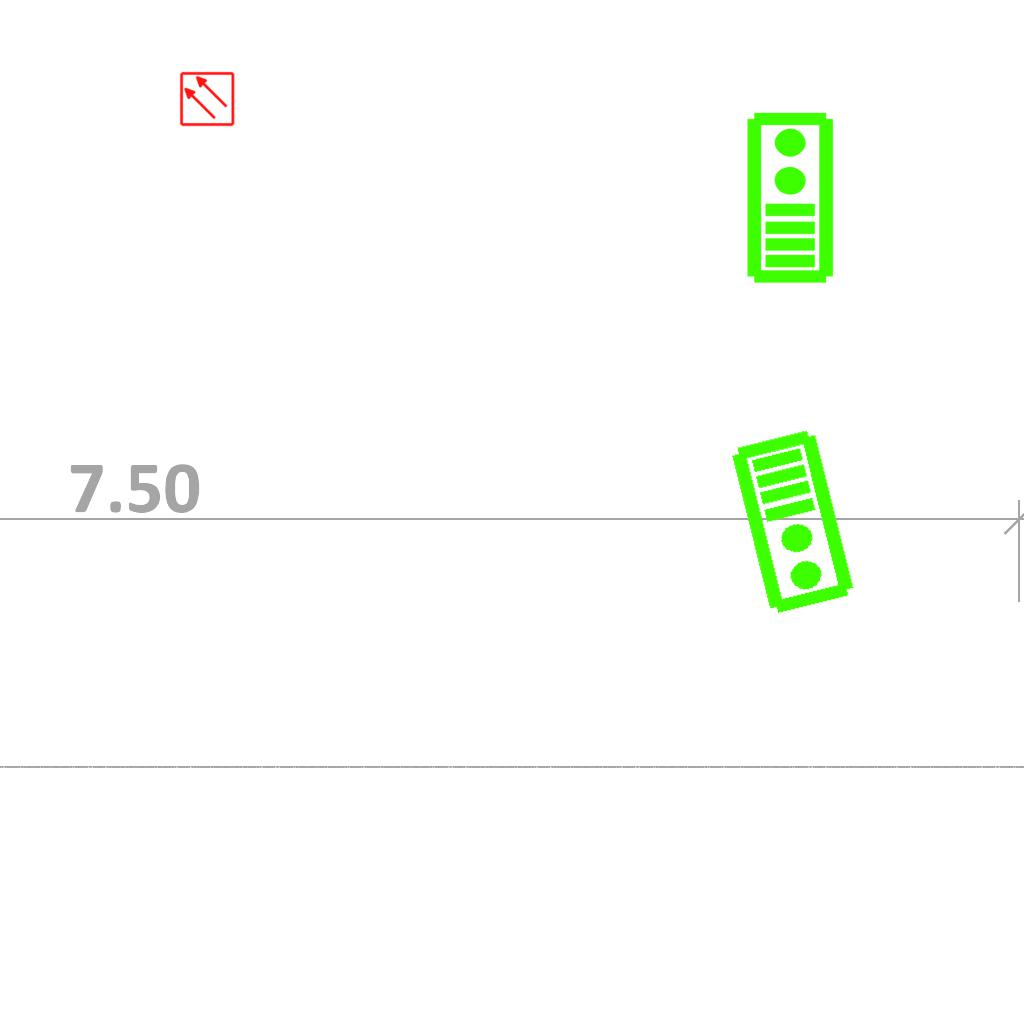Gegensprechanlage_mit_Video: (727, 425, 862, 619), (741, 109, 836, 285)
RMO_Rauchmelder_optischer: (179, 71, 235, 127)
